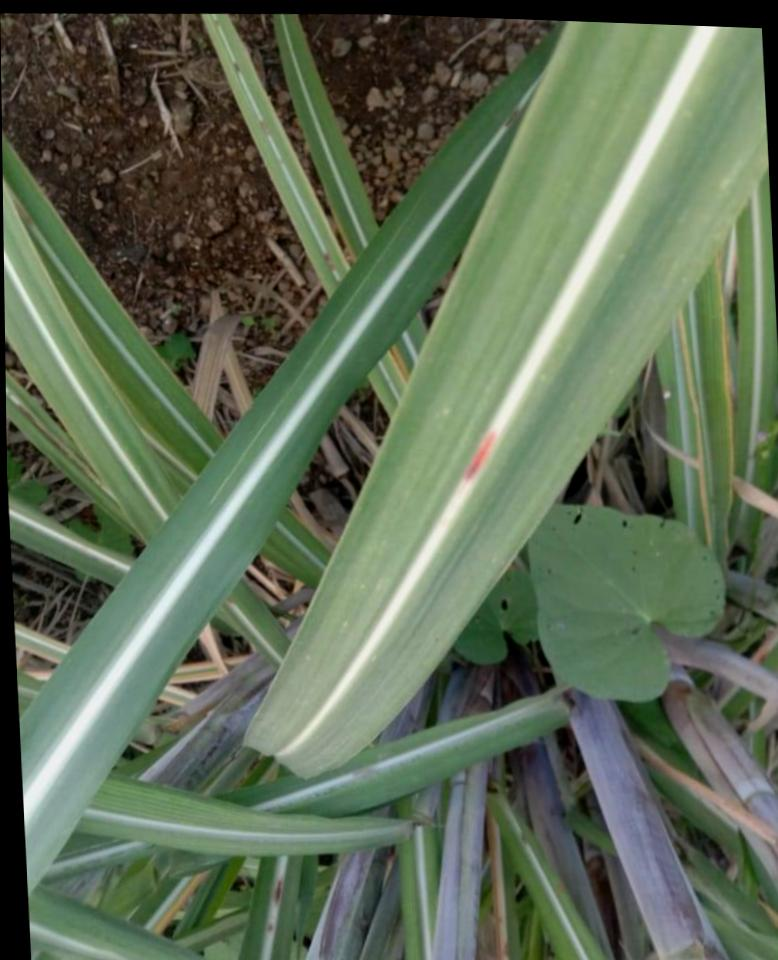RedRot: (461, 429, 497, 484), (503, 105, 521, 129), (273, 873, 283, 909), (323, 252, 335, 272), (259, 120, 271, 137), (232, 60, 241, 74), (266, 923, 274, 934), (212, 18, 219, 28)
